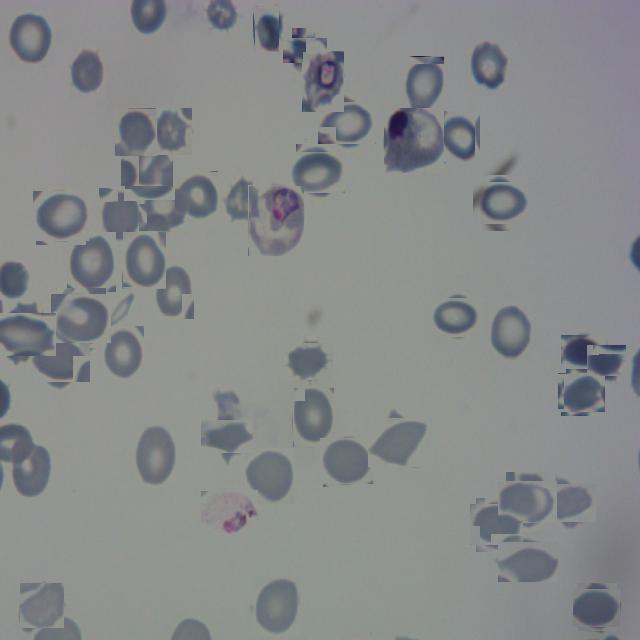leukocyte: (384, 108, 444, 173), (372, 413, 430, 471), (54, 290, 108, 346), (67, 232, 116, 292), (34, 190, 88, 243), (133, 422, 176, 488), (254, 577, 301, 637), (245, 448, 295, 504), (7, 9, 54, 68), (0, 306, 49, 362), (34, 334, 86, 386), (487, 301, 532, 361), (502, 476, 553, 527), (122, 231, 166, 289), (322, 436, 372, 486), (322, 98, 372, 148), (402, 56, 444, 115), (293, 387, 334, 447), (292, 148, 342, 196), (476, 178, 524, 228), (140, 184, 190, 232), (498, 542, 558, 582), (468, 37, 510, 92), (472, 501, 520, 549), (544, 478, 592, 526), (124, 140, 172, 188), (153, 263, 194, 319), (99, 188, 140, 244), (12, 443, 52, 499), (438, 110, 481, 162), (103, 326, 144, 380), (174, 171, 218, 221), (434, 294, 481, 340), (19, 582, 64, 628), (114, 108, 157, 156), (287, 339, 331, 384), (70, 46, 108, 98), (576, 586, 620, 630), (560, 370, 604, 414), (205, 414, 249, 458), (156, 108, 193, 155), (222, 176, 258, 224), (563, 332, 603, 372), (588, 343, 624, 379), (253, 6, 280, 52), (288, 32, 322, 68)
schizont: (248, 185, 304, 256), (200, 490, 258, 535), (302, 51, 344, 112)
